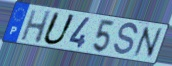4: (67, 16, 91, 51)
5: (91, 19, 117, 54)
H: (19, 9, 53, 46)
N: (131, 25, 164, 60)
S: (112, 22, 139, 58)
U: (41, 10, 78, 47)
